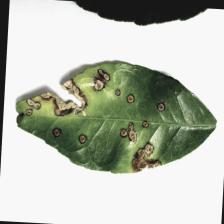canker: (11, 64, 168, 168)
